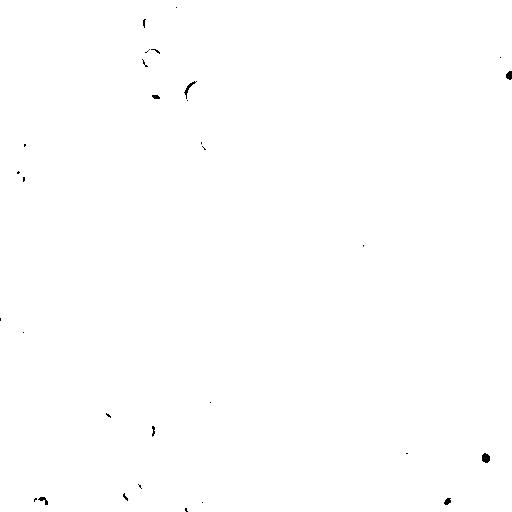micro-algae: (447, 359, 511, 428), (435, 44, 492, 102), (314, 332, 355, 375), (465, 437, 503, 475), (380, 151, 415, 189), (11, 312, 47, 347), (188, 31, 220, 67), (429, 483, 470, 511), (135, 79, 173, 109), (255, 161, 288, 192), (181, 77, 211, 109), (271, 309, 299, 341), (66, 202, 101, 227), (355, 335, 386, 363), (254, 349, 287, 375), (490, 55, 511, 93), (60, 305, 89, 332), (431, 0, 463, 23), (206, 379, 229, 410), (163, 63, 189, 89), (392, 433, 420, 455), (27, 38, 48, 67), (105, 359, 130, 383), (229, 306, 255, 329), (137, 417, 158, 444), (141, 45, 162, 72), (121, 481, 145, 504), (3, 457, 29, 478), (360, 229, 383, 252), (246, 70, 269, 91), (265, 285, 290, 303), (89, 52, 111, 72), (199, 131, 218, 153), (166, 0, 192, 16), (133, 298, 151, 320), (183, 493, 205, 511), (143, 12, 161, 33), (102, 399, 119, 419), (9, 133, 27, 151), (191, 350, 207, 369), (13, 167, 26, 189), (32, 495, 49, 511), (397, 502, 419, 512)
